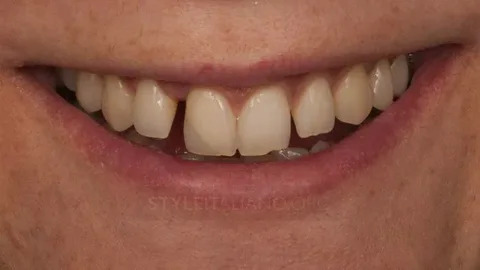Gap: (152, 93, 204, 143)
